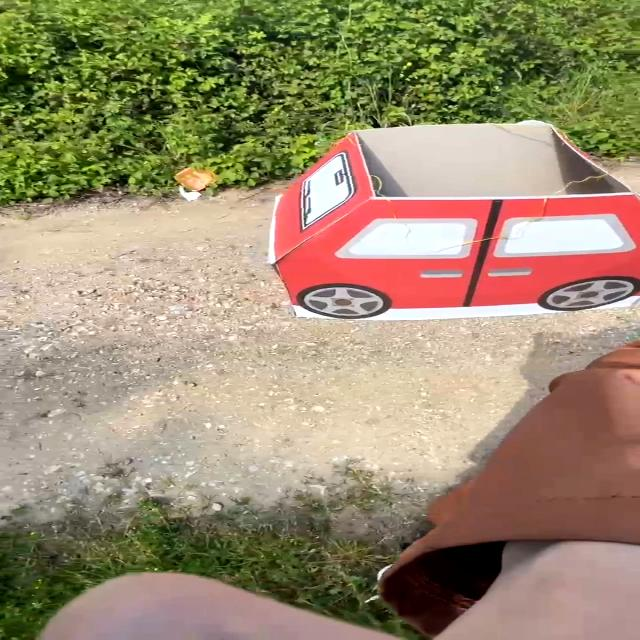red_car: (192, 102, 640, 300)
